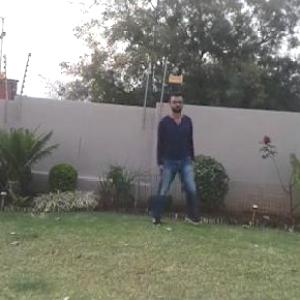follow: (146, 90, 193, 237)
